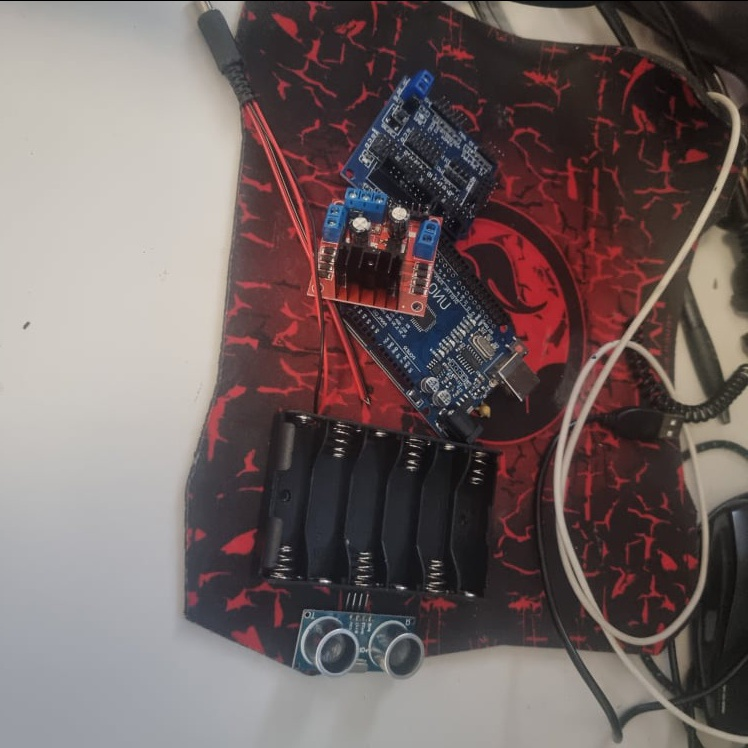5V EXPANSION: (340, 70, 515, 236)
BATTERY BOX: (255, 410, 501, 605)
MOTOR: (307, 185, 443, 309)
SENSOR: (287, 609, 425, 683)
UNO R3: (348, 265, 543, 444)
